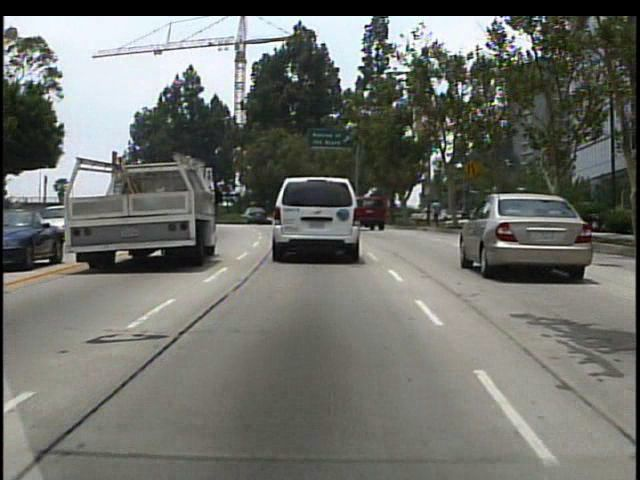person: (431, 195, 446, 232)
